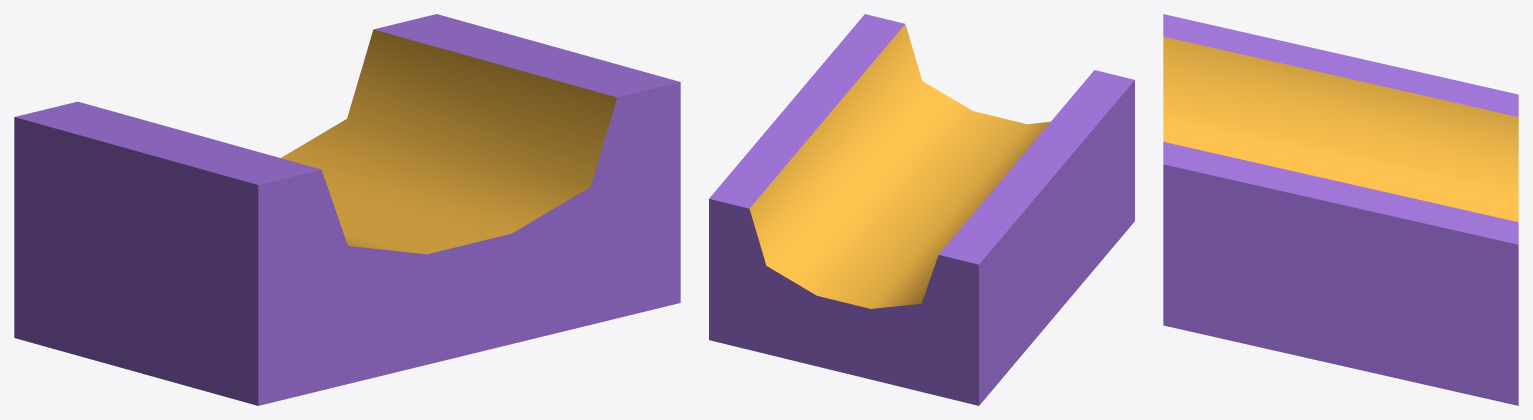
The model's file is marble-kit--slant-a.glb.
The picture shows the model from 3 angles, left to right: view 1: azimuth 30°, elevation 25°; view 2: azimuth 150°, elevation 25°; view 3: azimuth 270°, elevation 25°; orthographic projection. The views are drawn at different scales.
Visible parts, largest first — view 1: slant-a; view 2: slant-a; view 3: slant-a.
Boxes of the visible parts, left/top/right/bottom form: slant-a: left=14, top=14, right=680, bottom=405; slant-a: left=709, top=14, right=1134, bottom=405; slant-a: left=1163, top=14, right=1518, bottom=405.
Size of the model in its own units: 1 by 0.75 by 1.
1 material, 1 textured.
